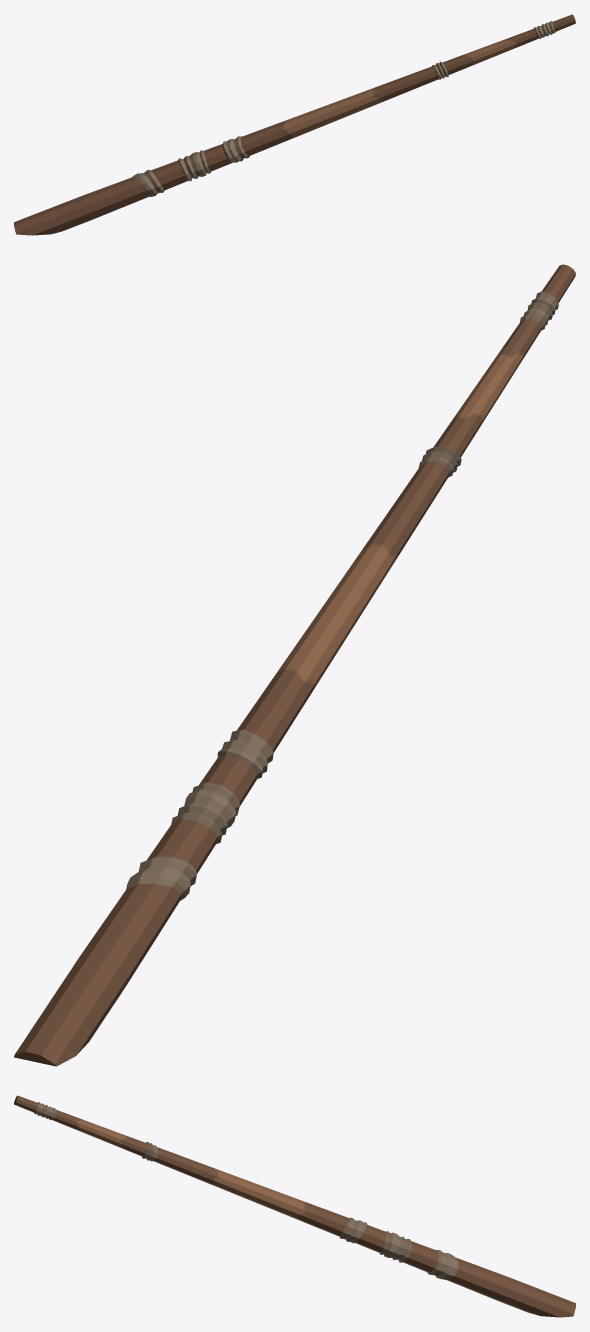
Rendered from SM_Veh_Ship_L_Bowsprit_01.fbx.
The picture shows the model from 3 angles, top to bottom: view 1: azimuth 90°, elevation 25°; view 2: azimuth 150°, elevation 25°; view 3: azimuth 270°, elevation 25°; orthographic projection. The views are drawn at different scales.
Parts seen in each view (by area): view 1: SM_Veh_Ship_L_Bowsprit_01; view 2: SM_Veh_Ship_L_Bowsprit_01; view 3: SM_Veh_Ship_L_Bowsprit_01.
Boxes of the visible parts, <box> form: SM_Veh_Ship_L_Bowsprit_01: <box>14,14,575,235</box>; SM_Veh_Ship_L_Bowsprit_01: <box>14,264,575,1066</box>; SM_Veh_Ship_L_Bowsprit_01: <box>14,1095,575,1317</box>.
Size of the model in its own units: 85.32 by 635 by 1505.
